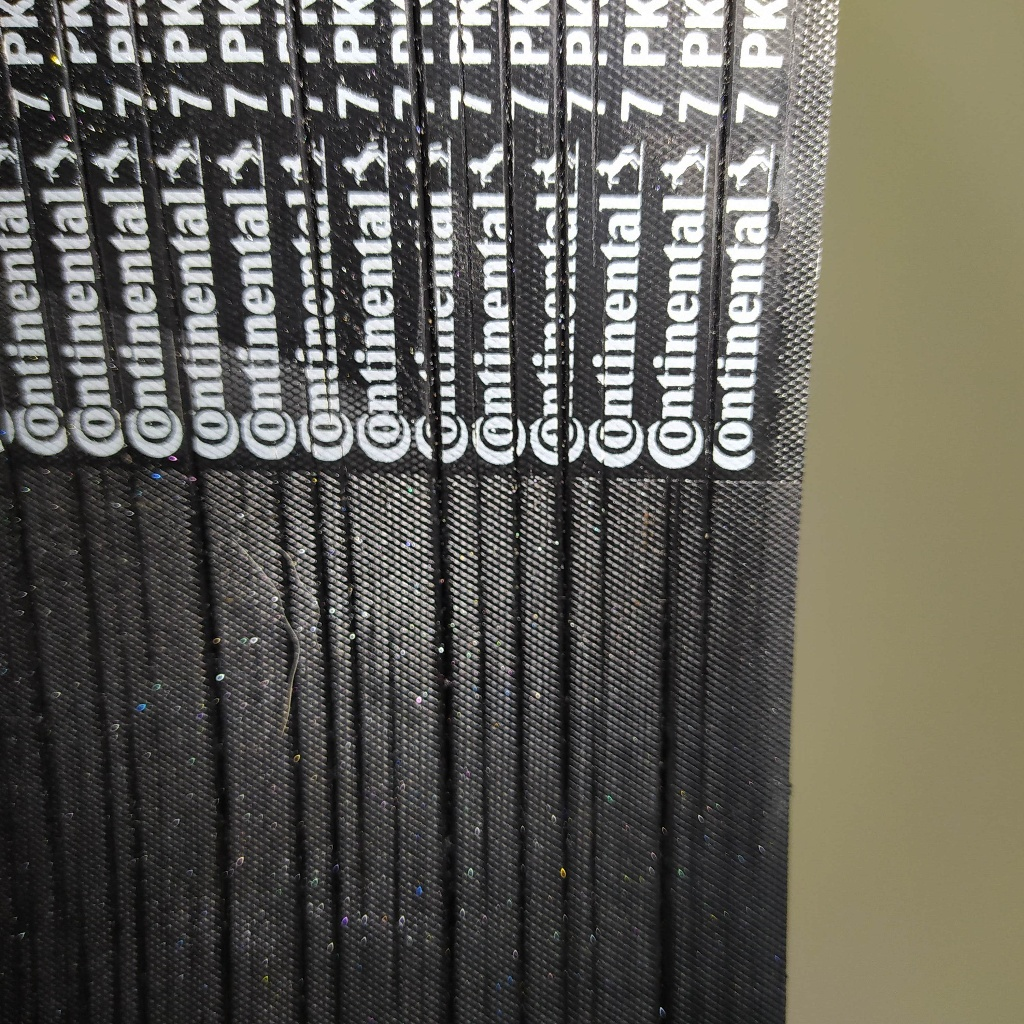friso grande: (210, 763, 241, 1022), (432, 788, 464, 1022), (428, 603, 465, 794), (194, 593, 232, 765), (142, 88, 169, 306), (470, 473, 497, 678), (422, 473, 462, 608), (351, 690, 374, 918), (182, 464, 222, 595), (335, 538, 368, 692), (288, 793, 310, 1023), (548, 4, 577, 174), (277, 636, 307, 795), (303, 467, 338, 603), (647, 874, 679, 1020), (272, 513, 308, 637), (12, 490, 45, 621), (419, 353, 452, 477), (25, 624, 59, 743), (548, 175, 579, 303), (690, 643, 714, 806), (509, 686, 534, 835), (315, 600, 343, 731), (326, 863, 347, 1019), (505, 567, 532, 687), (100, 267, 127, 387), (549, 303, 579, 408), (649, 763, 677, 875), (585, 127, 606, 276), (304, 194, 333, 300), (651, 585, 683, 681), (315, 295, 339, 422), (549, 511, 578, 616), (15, 120, 46, 218), (544, 698, 581, 780), (457, 207, 481, 330), (417, 244, 443, 356), (706, 222, 731, 338), (331, 423, 357, 534), (466, 327, 486, 471), (546, 614, 581, 696), (406, 55, 434, 157), (499, 245, 523, 362), (51, 740, 70, 885), (289, 109, 319, 199), (702, 331, 725, 448), (709, 57, 739, 145), (74, 504, 103, 595), (72, 895, 94, 1014), (128, 0, 155, 96), (650, 497, 680, 583), (498, 135, 521, 247), (501, 466, 526, 569), (549, 413, 575, 512), (324, 729, 343, 863), (134, 898, 155, 1019), (456, 87, 476, 214), (95, 691, 116, 809), (65, 93, 93, 181), (693, 528, 714, 644), (411, 151, 437, 243), (495, 27, 517, 135), (287, 25, 312, 118), (653, 677, 679, 766), (30, 214, 52, 318), (301, 367, 323, 470), (104, 807, 128, 901), (268, 449, 299, 521), (586, 0, 603, 131), (84, 175, 109, 264), (84, 595, 105, 697), (50, 318, 70, 423), (552, 847, 574, 940), (125, 463, 151, 538), (551, 778, 577, 851), (504, 359, 521, 470), (597, 456, 615, 560), (53, 18, 77, 96), (712, 141, 733, 230), (122, 712, 141, 802), (112, 898, 126, 1019), (515, 832, 530, 944), (512, 941, 532, 1024), (119, 638, 140, 717), (555, 940, 575, 1014), (134, 812, 150, 901), (701, 440, 716, 531), (70, 447, 91, 510), (456, 18, 474, 90), (716, 0, 737, 61), (406, 8, 426, 60), (113, 584, 129, 638), (663, 463, 682, 498)
friso pequeno: (151, 646, 169, 861), (383, 871, 406, 1022), (386, 722, 409, 873), (475, 674, 497, 817), (589, 869, 607, 1016), (383, 621, 406, 727), (480, 817, 492, 1018), (139, 530, 159, 650), (585, 698, 612, 764), (596, 601, 612, 701), (591, 759, 602, 863), (593, 555, 611, 603)
